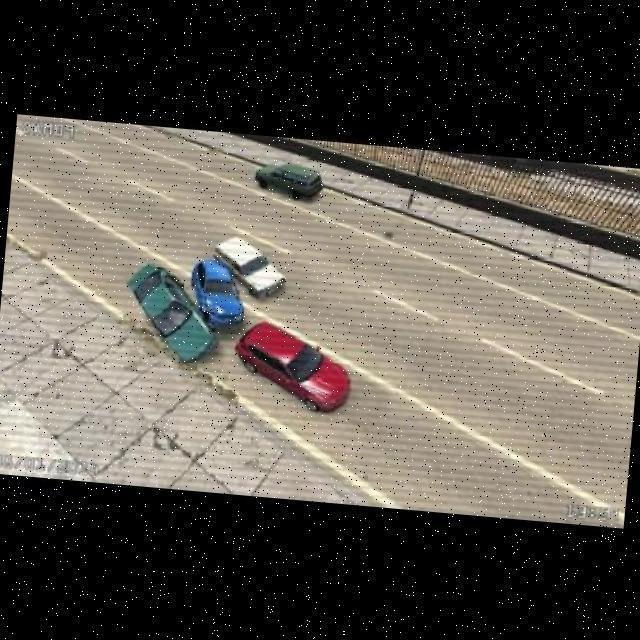accident: (154, 288, 245, 352)
